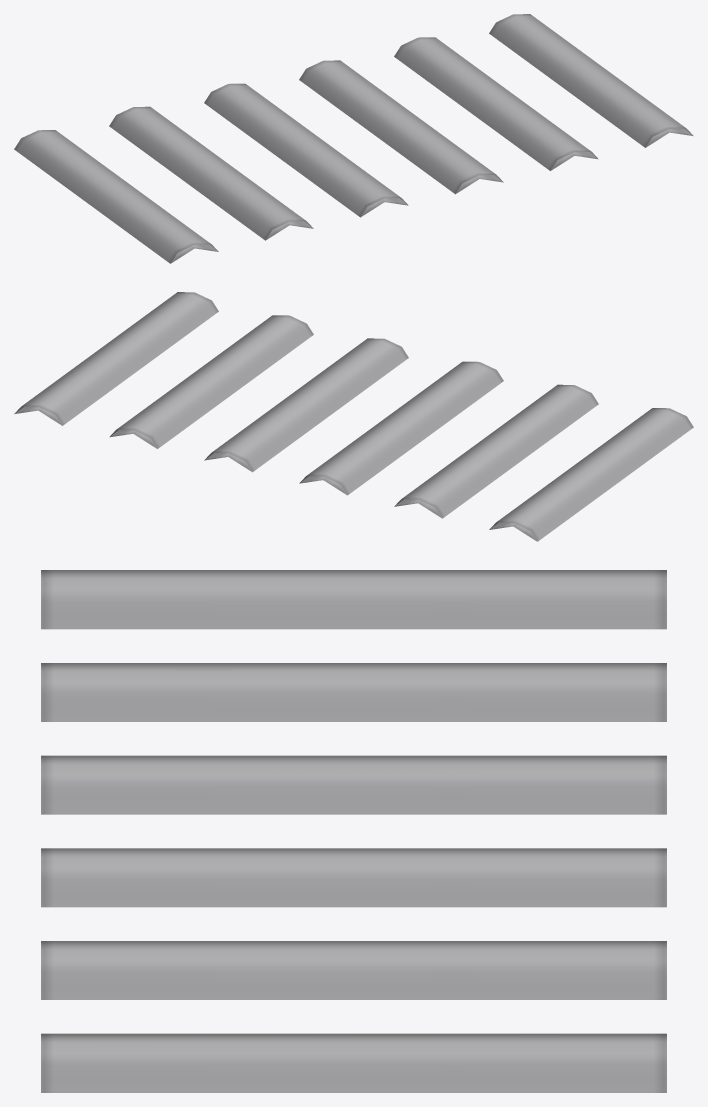
The model's file is jsf_GasJetCover_02.fbx.
3 views of the same model, one above another, from view 1: azimuth 30°, elevation 25°; view 2: azimuth 150°, elevation 25°; view 3: azimuth 270°, elevation 25° (orthographic). The views are drawn at different scales.
Visible parts, largest first — view 1: jsf_GasJetCover_02; view 2: jsf_GasJetCover_02; view 3: jsf_GasJetCover_02.
Part boxes in pixels (box(x1,y1,x2,y2)): jsf_GasJetCover_02: box(14, 14, 693, 263); jsf_GasJetCover_02: box(14, 292, 693, 541); jsf_GasJetCover_02: box(41, 570, 666, 1092).
Size of the model in its own units: 103 by 2.48 by 53.15.
